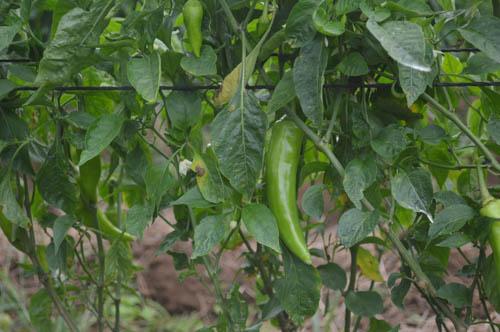ChiliPepper: (266, 122, 314, 264), (69, 153, 138, 241), (182, 6, 204, 53)
